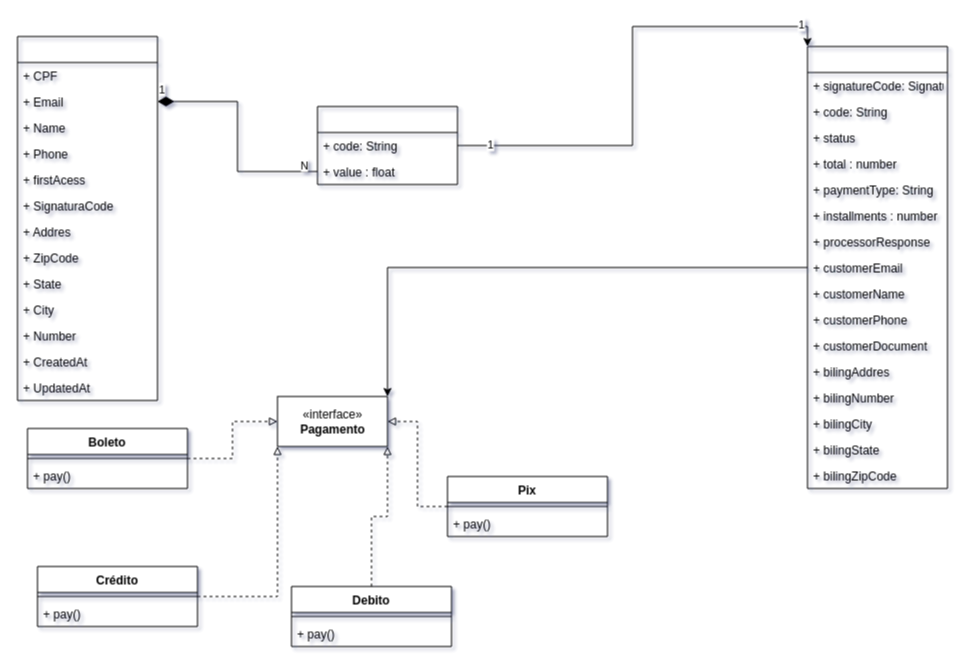
The diagram is 976 pixels wide and 672 high, and some of its shapes have lost their labels. Each missing label, with the box of its shape:
Customer: (16, 36, 158, 400)
Signature: (316, 106, 458, 184)
Transaction: (806, 46, 948, 488)
